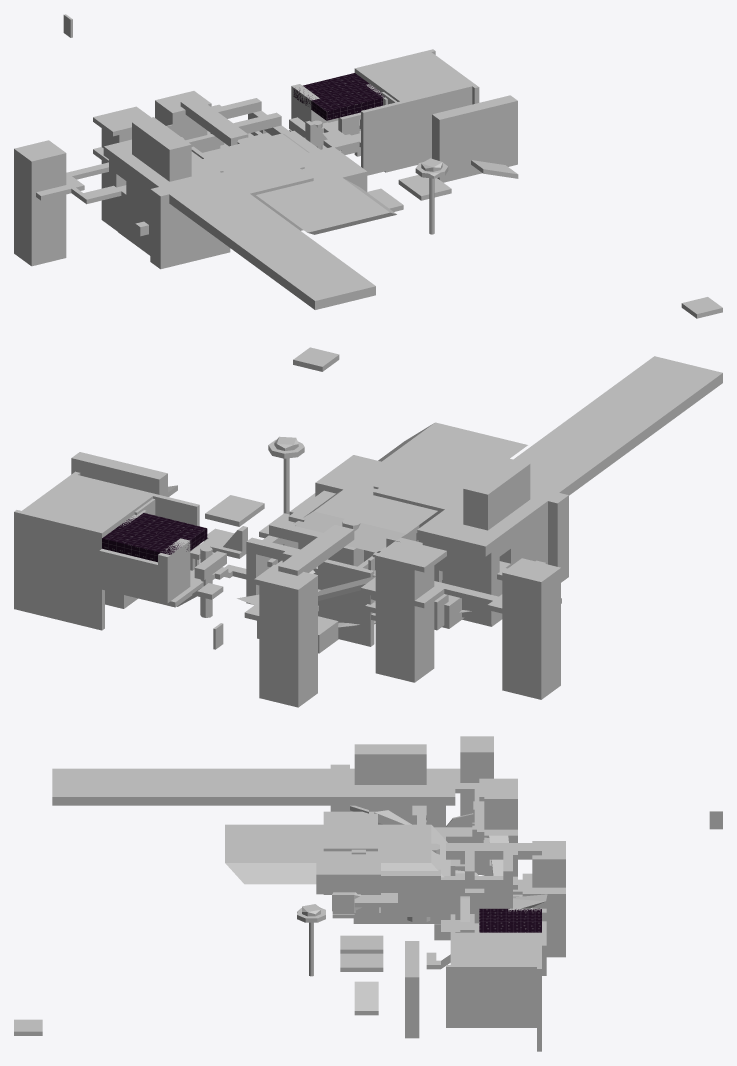
Rendered from testlevel.obj.
3 renders of one model, top to bottom at view 1: azimuth 30°, elevation 25°; view 2: azimuth 150°, elevation 25°; view 3: azimuth 270°, elevation 25°, orthographic. The views are drawn at different scales.
Parts seen in each view (by area): view 1: entity0_brush139, entity0_brush26, entity0_brush183, entity0_brush272, entity0_brush269, entity0_brush230, entity0_brush146, entity0_brush142, entity0_brush216, entity0_brush124, entity0_brush161, entity0_brush24 (+12 smaller); view 2: entity0_brush139, entity0_brush26, entity0_brush229, entity0_brush183, entity0_brush34, entity0_brush37, entity0_brush230, entity0_brush142, entity0_brush29, entity0_brush216, entity0_brush124, entity0_brush205 (+18 smaller); view 3: entity0_brush139, entity0_brush26, entity0_brush234, entity0_brush142, entity0_brush230, entity0_brush34, entity0_brush23, entity0_brush124, entity0_brush24, entity0_brush183, entity0_brush37, entity0_brush216 (+10 smaller).
Boxes of the visible parts, <box> form: entity0_brush139: <box>103,139,375,309</box>; entity0_brush26: <box>199,133,396,234</box>; entity0_brush183: <box>14,140,66,266</box>; entity0_brush272: <box>432,95,517,182</box>; entity0_brush269: <box>361,90,447,175</box>; entity0_brush230: <box>357,53,470,101</box>; entity0_brush146: <box>150,184,195,269</box>; entity0_brush142: <box>132,117,191,181</box>; entity0_brush216: <box>293,73,384,120</box>; entity0_brush124: <box>221,157,313,229</box>; entity0_brush161: <box>126,162,167,252</box>; entity0_brush24: <box>288,146,367,191</box>; entity0_brush139: <box>417,356,722,556</box>; entity0_brush26: <box>293,422,527,552</box>; entity0_brush229: <box>14,510,104,630</box>; entity0_brush183: <box>502,558,560,699</box>; entity0_brush34: <box>259,566,317,707</box>; entity0_brush37: <box>375,541,434,682</box>; entity0_brush230: <box>22,476,152,535</box>; entity0_brush142: <box>463,458,530,530</box>; entity0_brush29: <box>318,559,374,646</box>; entity0_brush216: <box>102,513,207,562</box>; entity0_brush124: <box>373,468,469,542</box>; entity0_brush205: <box>99,548,157,600</box>; entity0_brush139: <box>52,768,455,805</box>; entity0_brush26: <box>225,824,450,884</box>; entity0_brush234: <box>446,965,536,1027</box>; entity0_brush142: <box>354,744,426,784</box>; entity0_brush230: <box>455,932,536,970</box>; entity0_brush34: <box>532,841,565,957</box>; entity0_brush23: <box>381,869,440,916</box>; entity0_brush124: <box>323,813,377,894</box>; entity0_brush24: <box>316,863,380,894</box>; entity0_brush183: <box>460,736,493,815</box>; entity0_brush37: <box>484,783,517,875</box>; entity0_brush216: <box>479,908,541,932</box>.
Bounding box in the file's own units: 13440 × 4480 × 18912.
